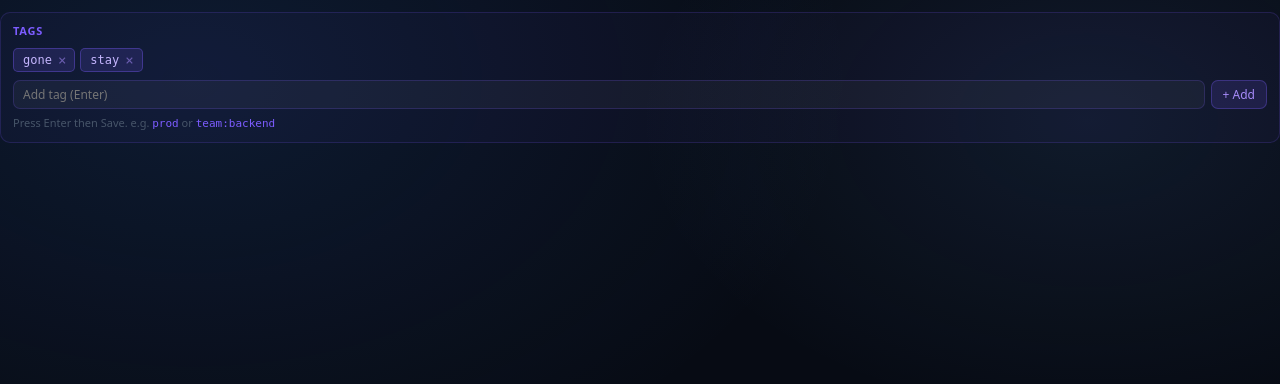
Test: TagEditor › removes a tag and marks dirty
The width and height of the screenshot is (1280, 384).
Click the button titled "Remove tag" next to "gone": coordinates (61, 60) 56,52 -> 66,66
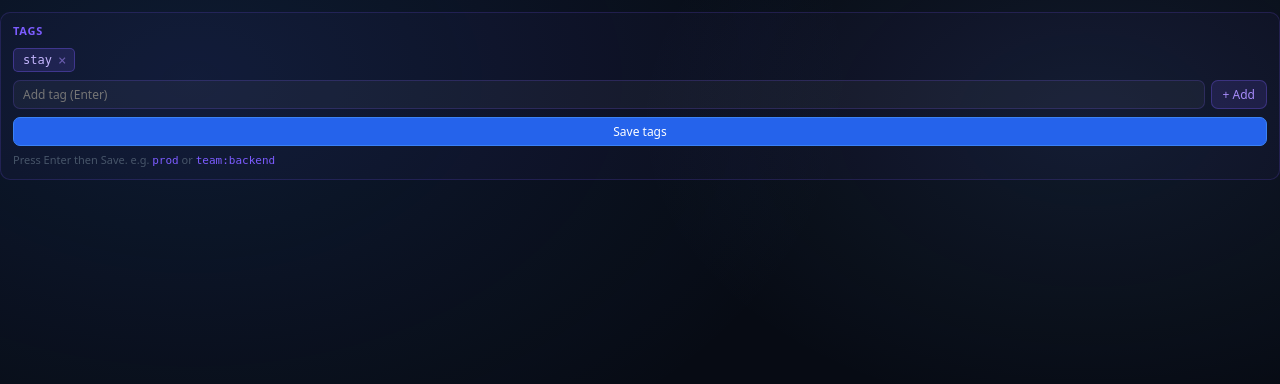
Expected: the text "stay" is shown, 23,52 -> 52,66
Expected: the text "gone" is gone
Expected: the button "Save tags" is shown, 13,116 -> 1267,146
